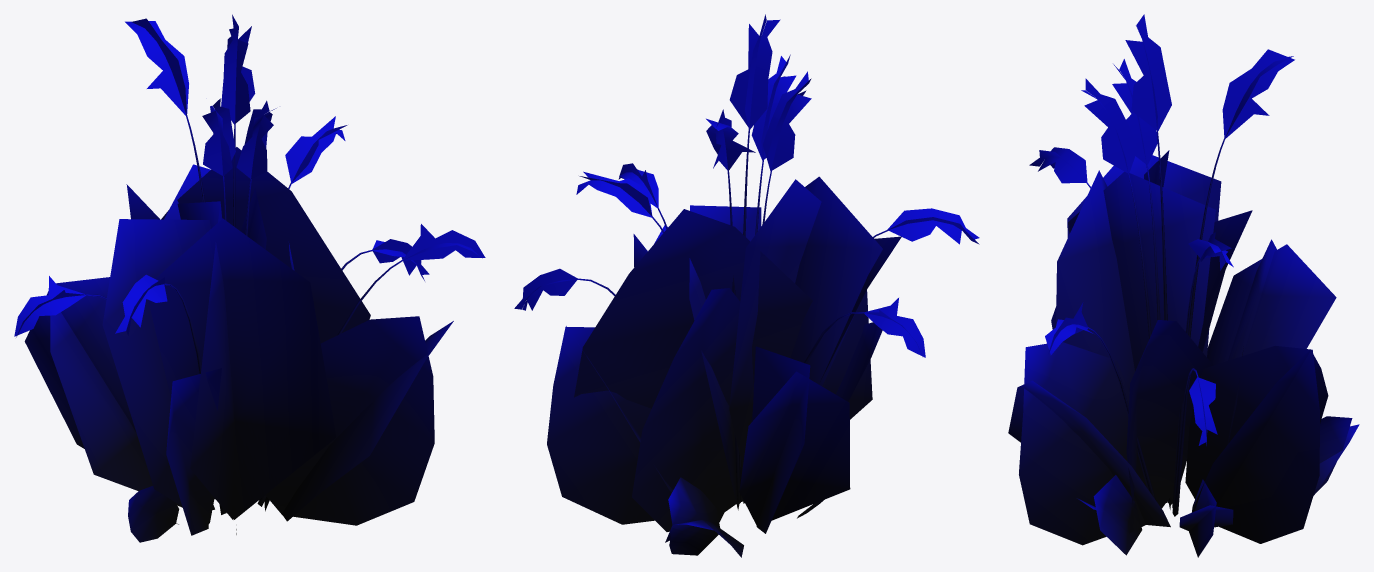
File: SM_WildGrass_01.fbx
3 views of the same model, side by side, from view 1: azimuth 30°, elevation 25°; view 2: azimuth 150°, elevation 25°; view 3: azimuth 270°, elevation 25° (orthographic). The views are drawn at different scales.
Visible parts, largest first — view 1: SM_WildGrass_01_LOD0; view 2: SM_WildGrass_01_LOD0; view 3: SM_WildGrass_01_LOD0.
Boxes of the visible parts, <box> form: SM_WildGrass_01_LOD0: <box>14,14,485,542</box>; SM_WildGrass_01_LOD0: <box>514,14,979,557</box>; SM_WildGrass_01_LOD0: <box>1008,14,1359,557</box>.
Size of the model in its own units: 126 by 95.04 by 148.
